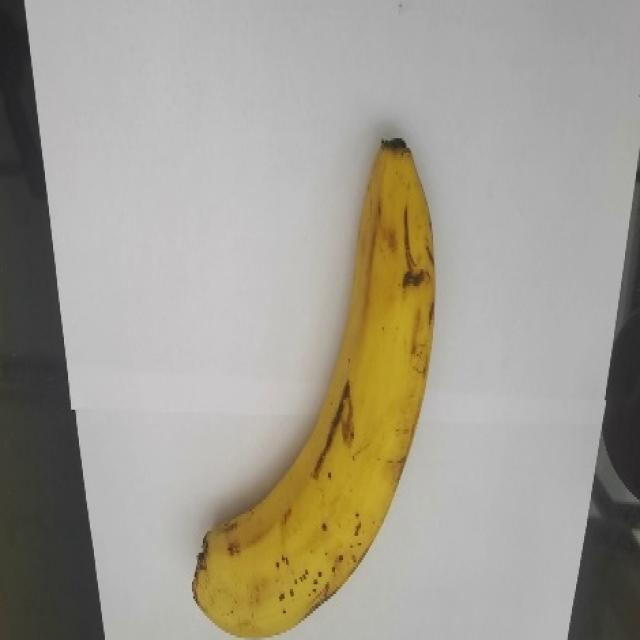Banana: (186, 133, 442, 640)
